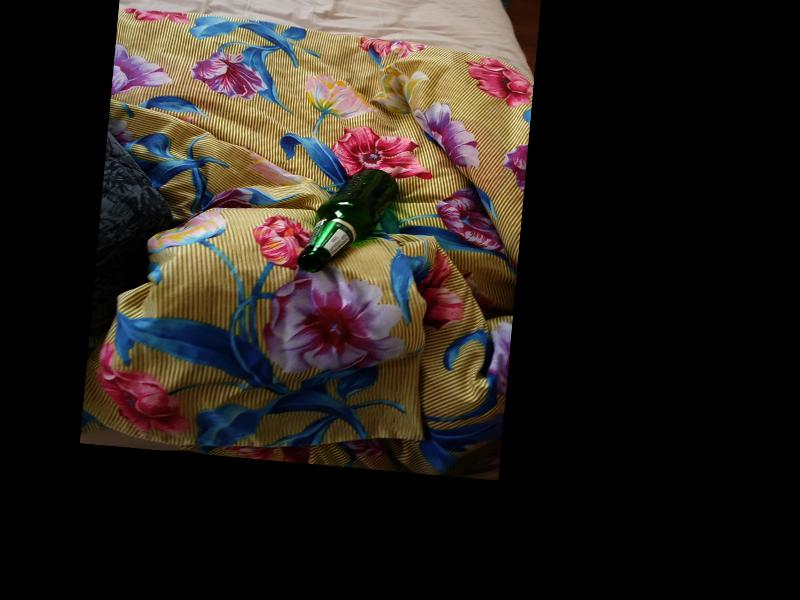Beer: (298, 164, 399, 280)
